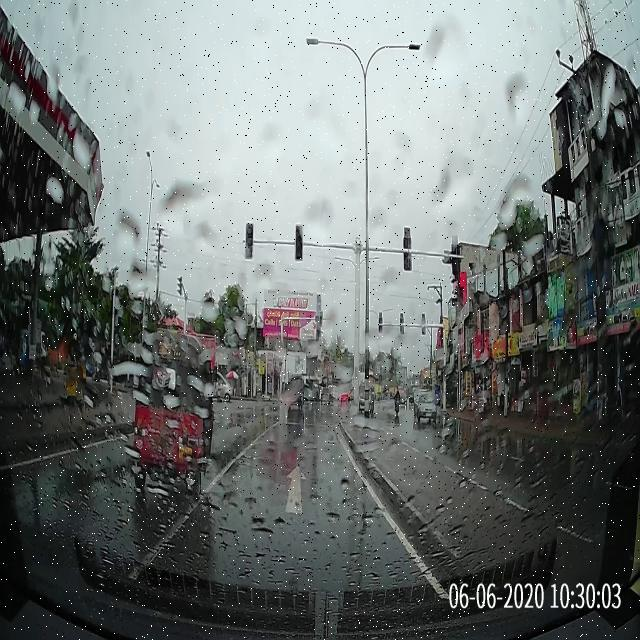forward: (190, 460, 392, 521)
